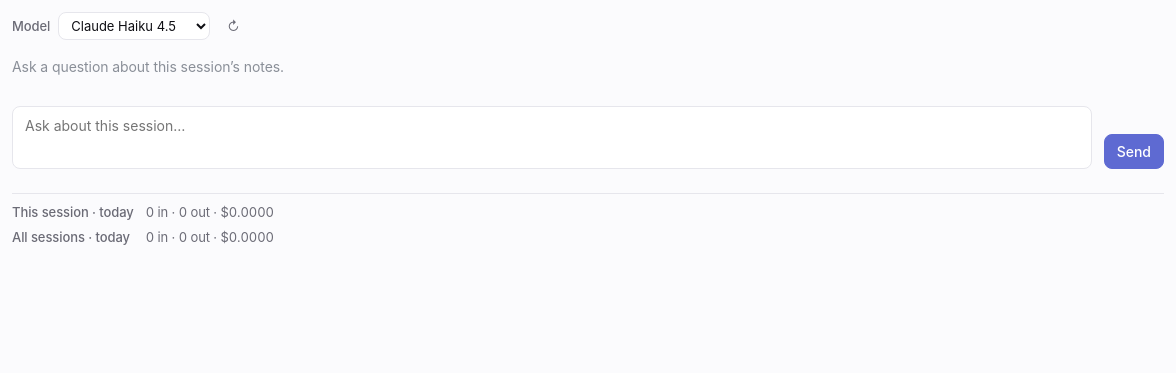
Test: ChatPanel › sends {sessionId, question} and streams chunks into one assistant message
Type "What did we decide?" into the text box named "Ask Claude about this session".
click(552, 138); type("What did we decide?")  # box top-left (12, 106), bottom-right (1092, 169)
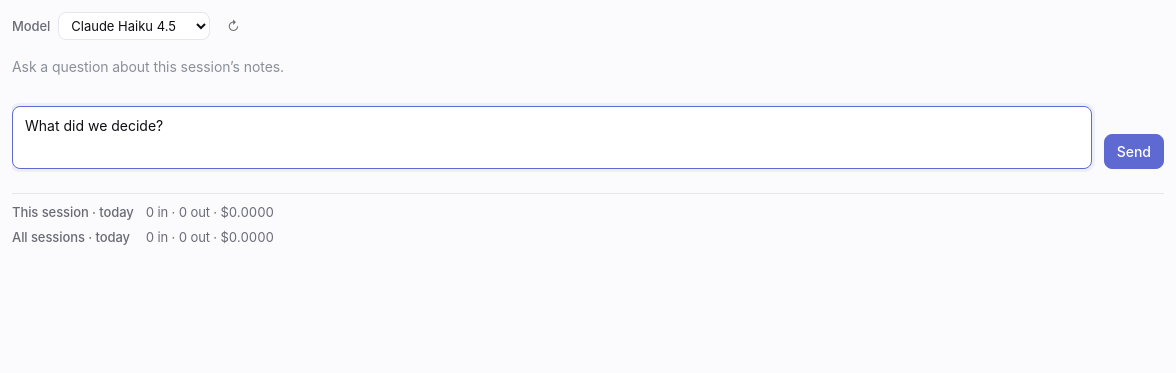
Click the button with aria-label "Send message".
click(1134, 152)  # box top-left (1104, 134), bottom-right (1164, 169)
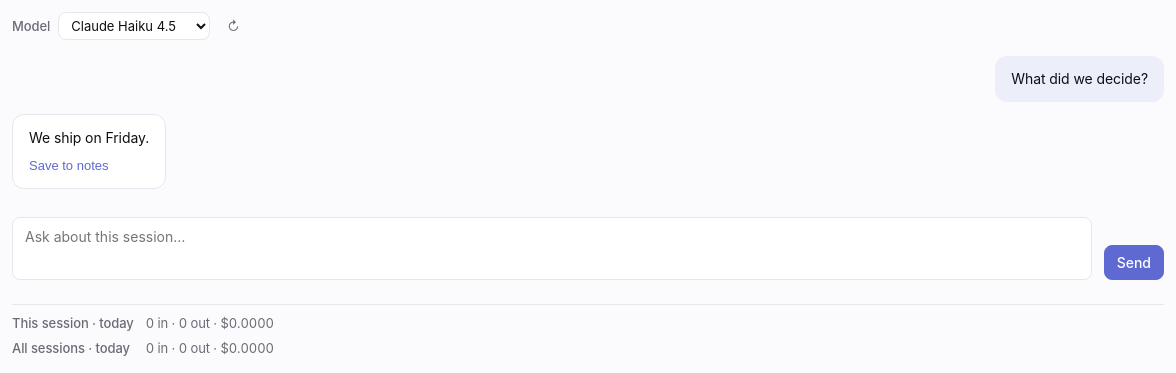
Check: the text "What did we decide?" is shown, box top-left (1011, 68), bottom-right (1148, 90)
Check: the button with aria-label "Send message" is disabled, box top-left (1104, 245), bottom-right (1164, 280)
Check: the text "We ship on Friday." is shown, box top-left (29, 127), bottom-right (149, 150)
